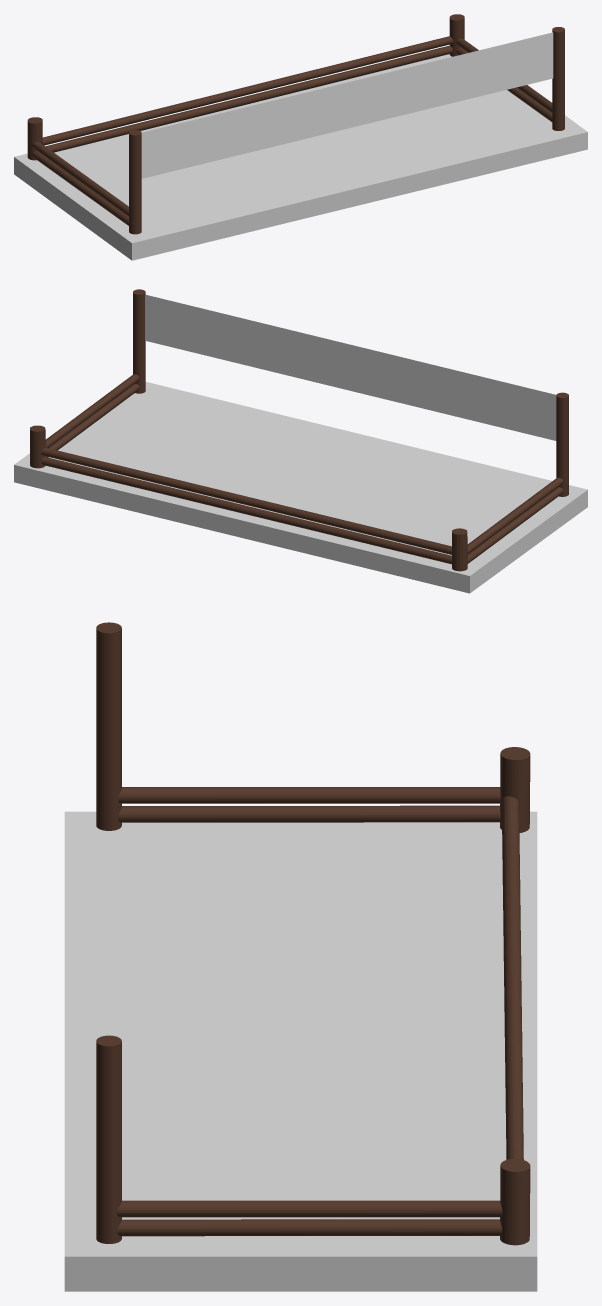
Rendered from Finish.fbx.
3 renders of one model, top to bottom at view 1: azimuth 30°, elevation 25°; view 2: azimuth 150°, elevation 25°; view 3: azimuth 270°, elevation 25°, orthographic. The views are drawn at different scales.
Parts seen in each view (by area): view 1: Platform, Flag, Cylinder.004, Cylinder.003, Support.001, Support, Cylinder, Cylinder.001, Cylinder.002, Cylinder.007, Cylinder.005, Cylinder.006; view 2: Platform, Flag, Cylinder.004, Cylinder.003, Support.001, Support, Cylinder, Cylinder.007, Cylinder.001, Cylinder.006, Cylinder.002, Cylinder.005; view 3: Platform, Cylinder.007, Cylinder.006, Cylinder.001, Cylinder, Cylinder.004, Support.001, Support, Cylinder.005, Cylinder.002.
Part boxes in pixels (x1,y1,x2,y2): Platform: [14, 54, 587, 260]; Flag: [141, 32, 553, 178]; Cylinder.004: [42, 36, 453, 145]; Cylinder.003: [45, 45, 452, 152]; Support.001: [129, 130, 141, 234]; Support: [552, 27, 564, 130]; Cylinder: [31, 141, 128, 216]; Cylinder.001: [31, 151, 128, 225]; Cylinder.002: [27, 117, 42, 160]; Cylinder.007: [456, 38, 552, 112]; Cylinder.005: [449, 14, 464, 56]; Cylinder.006: [456, 47, 552, 121]; Platform: [14, 382, 587, 593]; Flag: [145, 294, 556, 440]; Cylinder.004: [41, 447, 451, 554]; Cylinder.003: [41, 457, 451, 564]; Support.001: [556, 392, 568, 496]; Support: [133, 289, 145, 393]; Cylinder: [467, 477, 563, 554]; Cylinder.007: [45, 374, 139, 447]; Cylinder.001: [467, 487, 563, 563]; Cylinder.006: [45, 383, 139, 457]; Cylinder.002: [452, 528, 467, 571]; Cylinder.005: [30, 425, 45, 468]; Platform: [64, 811, 537, 1291]; Cylinder.007: [117, 1200, 502, 1217]; Cylinder.006: [116, 1219, 502, 1236]; Cylinder.001: [118, 805, 500, 822]; Cylinder: [118, 787, 500, 803]; Cylinder.004: [502, 796, 523, 1159]; Support.001: [96, 622, 121, 830]; Support: [96, 1035, 121, 1243]; Cylinder.005: [500, 1159, 530, 1245]; Cylinder.002: [500, 747, 530, 832].
Size of the model in its own units: 1587 by 387 by 712.
